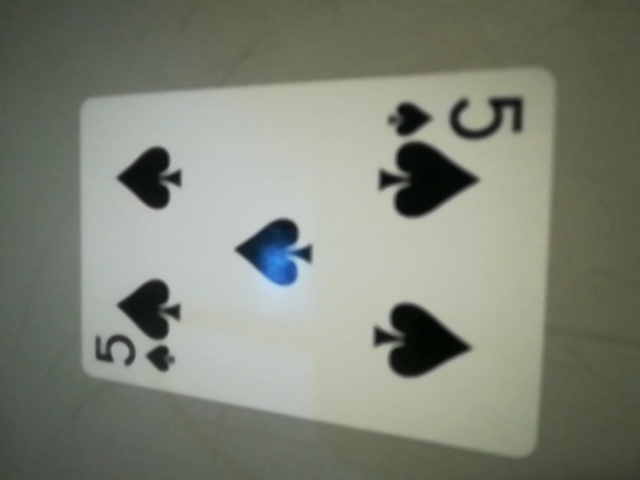ht 5: (371, 86, 535, 164)
